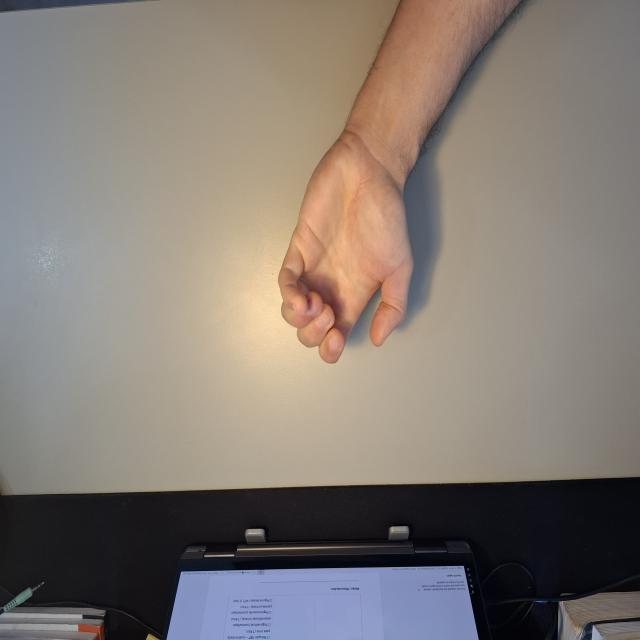glove_off: (276, 127, 417, 367)
